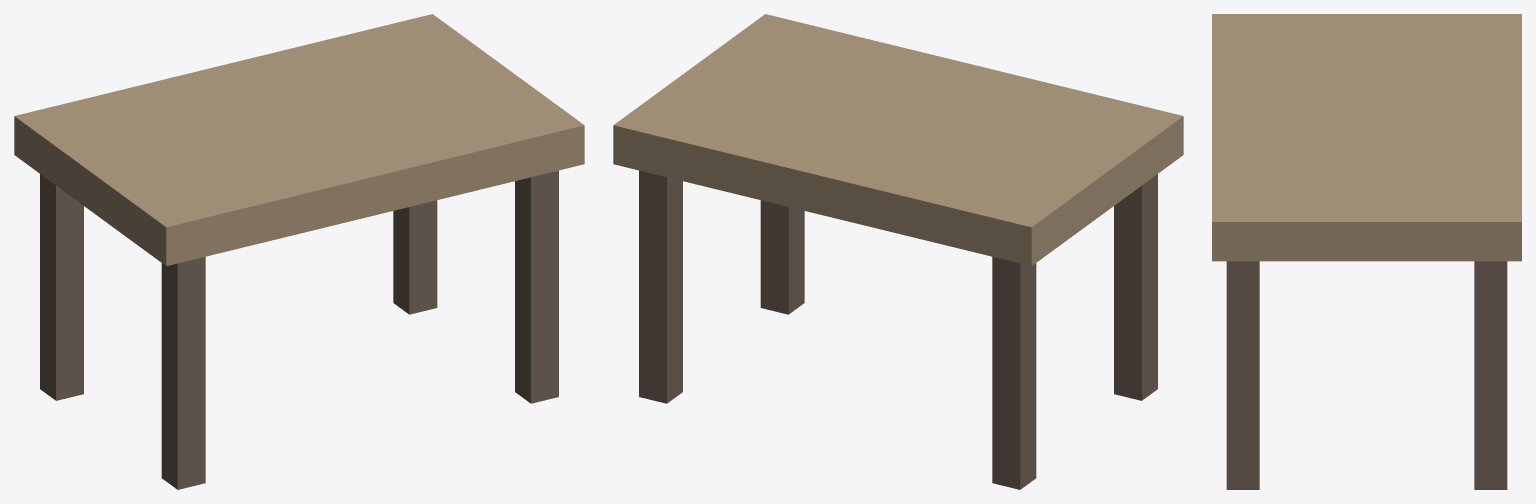
The model's file is table_small.glb.
3 views of the same model, side by side, from view 1: azimuth 30°, elevation 25°; view 2: azimuth 150°, elevation 25°; view 3: azimuth 270°, elevation 25° (orthographic).
Parts seen in each view (by area): view 1: table_small; view 2: table_small; view 3: table_small.
Boxes of the visible parts, box(x1,y1,x2,y2) form: table_small: box(14, 14, 584, 489); table_small: box(613, 14, 1183, 489); table_small: box(1212, 14, 1521, 489).
Size of the model in its own units: 1.35 by 0.84 by 0.85.
